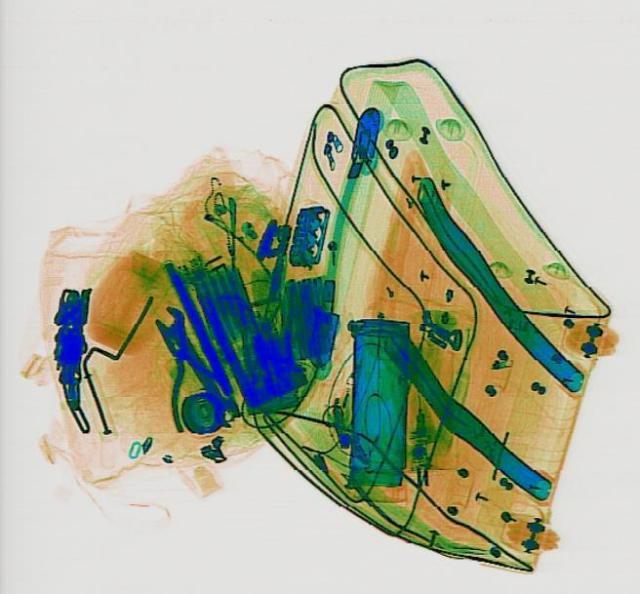Pliers: (125, 315, 237, 430)
Wrench: (144, 298, 246, 423)
